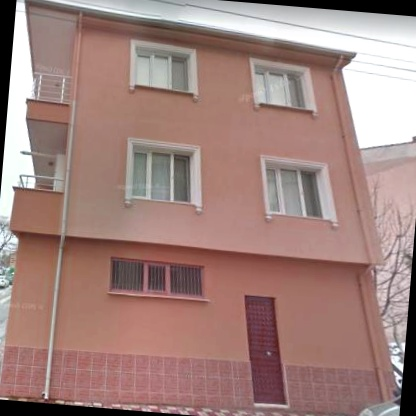door: (236, 296, 294, 405)
